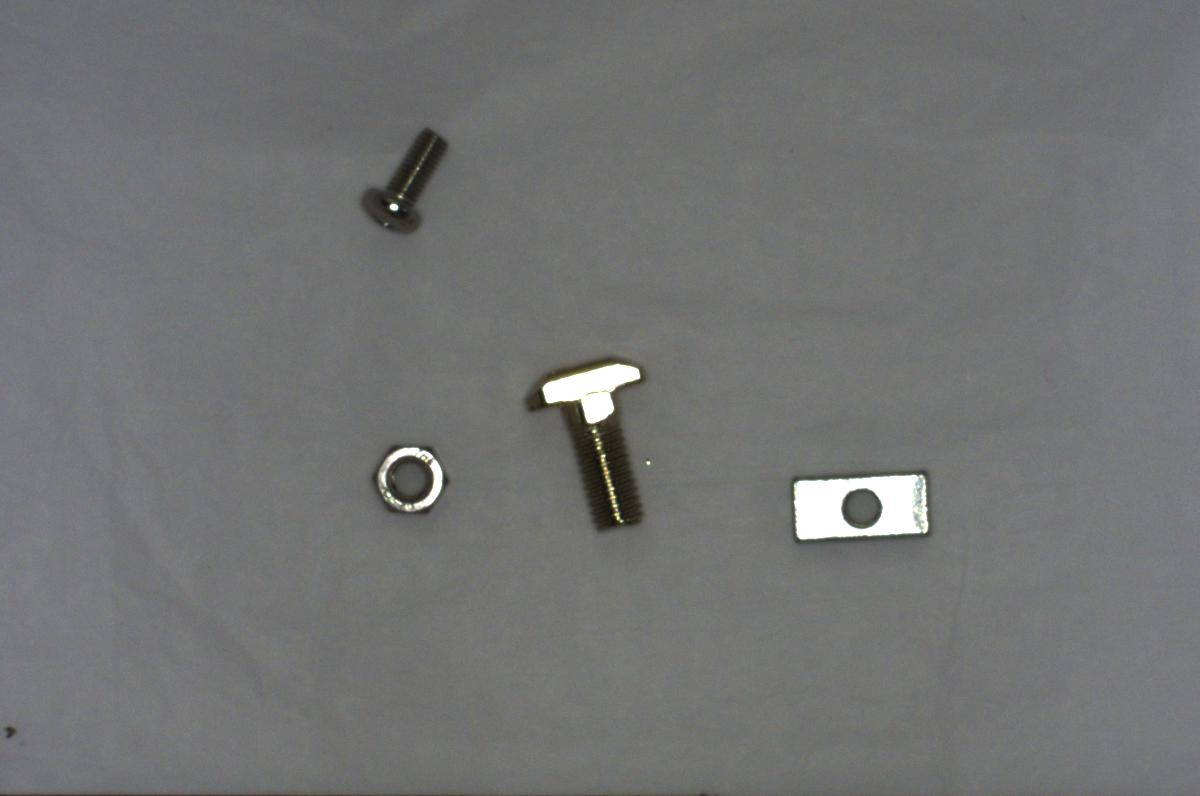Hexagon nut: (372, 436, 452, 519)
Rectangular nut: (782, 460, 941, 555)
Round head screw: (354, 116, 450, 241)
T-shaped screw: (519, 341, 665, 546)
